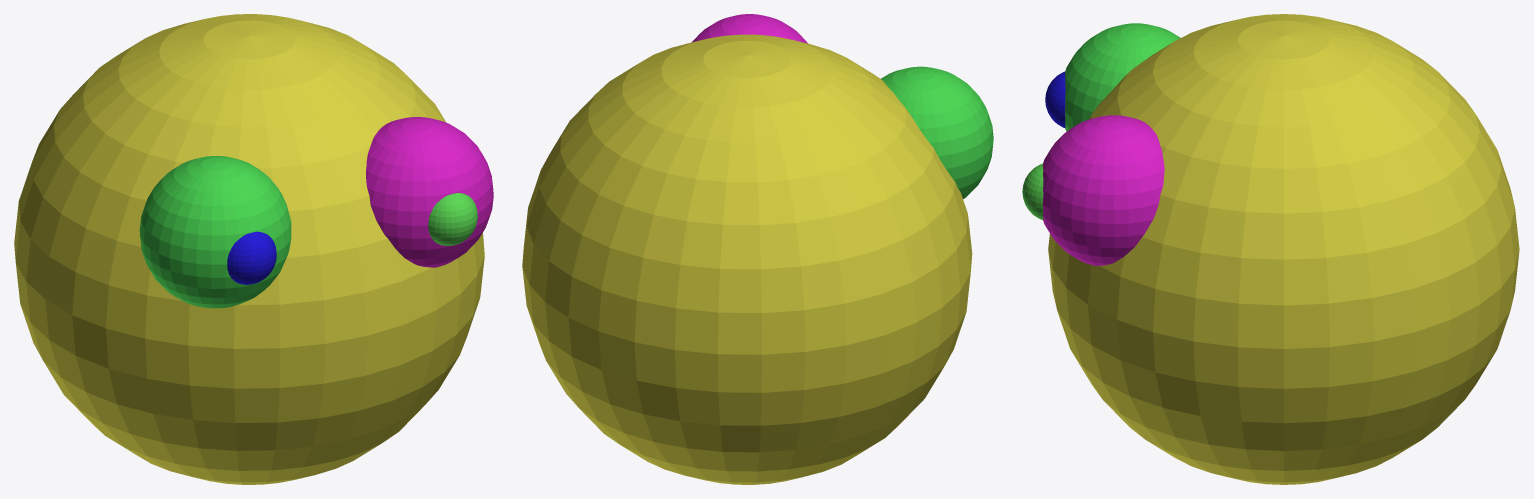
File: head.gltf
3 renders of one model, left to right at view 1: azimuth 30°, elevation 25°; view 2: azimuth 150°, elevation 25°; view 3: azimuth 270°, elevation 25°, orthographic. The views are drawn at different scales.
Visible parts, largest first — view 1: Head, R_Eye, L_Eye, L_Eye.001, R_Eye.001; view 2: Head, R_Eye, L_Eye; view 3: Head, L_Eye, R_Eye, L_Eye.001, R_Eye.001.
Part boxes in pixels (x1,y1,x2,y2): Head: (14,14,484,484); R_Eye: (139,156,291,308); L_Eye: (366,117,493,267); L_Eye.001: (428,193,477,245); R_Eye.001: (227,231,276,284); Head: (522,34,972,484); R_Eye: (881,66,993,198); L_Eye: (692,14,807,43); Head: (1048,14,1519,484); L_Eye: (1042,115,1164,265); R_Eye: (1065,23,1180,131); L_Eye.001: (1022,163,1043,219); R_Eye.001: (1045,71,1065,127).
Bounding box in the file's own units: 2 × 2 × 2.11.
